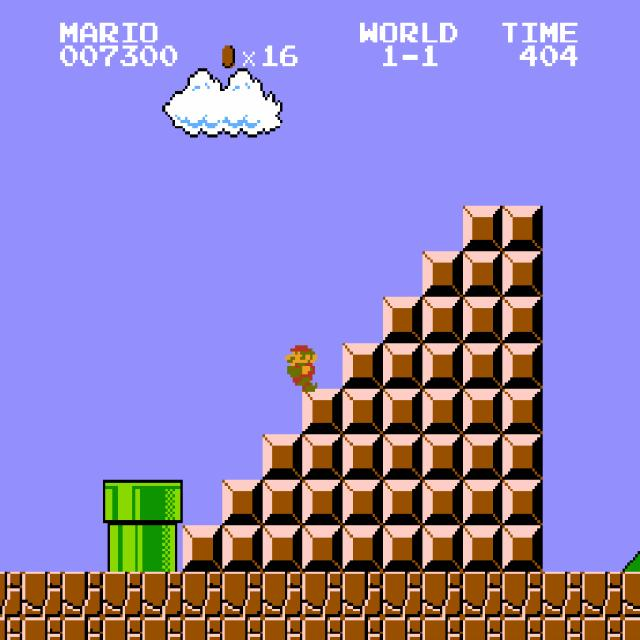hard_block: (222, 480, 263, 526), (262, 434, 303, 480), (262, 480, 303, 526), (302, 434, 343, 480), (302, 480, 343, 526), (342, 434, 383, 480), (342, 480, 383, 526), (382, 297, 423, 343), (382, 434, 423, 480), (382, 480, 423, 526), (422, 297, 463, 343), (422, 434, 463, 480), (422, 480, 463, 526), (462, 297, 503, 343), (462, 434, 503, 480), (462, 480, 503, 526), (502, 297, 543, 343), (502, 434, 543, 480), (502, 480, 543, 526), (182, 526, 223, 571), (222, 526, 263, 571), (262, 526, 303, 571), (302, 389, 343, 434), (302, 526, 343, 571), (342, 343, 383, 388), (342, 389, 383, 434), (342, 526, 383, 571), (382, 343, 423, 388), (382, 389, 423, 434), (382, 526, 423, 571), (422, 252, 463, 297), (422, 343, 463, 388), (422, 389, 463, 434), (422, 526, 463, 571), (462, 206, 503, 251), (462, 252, 503, 297), (462, 343, 503, 388), (462, 389, 503, 434), (462, 526, 503, 571), (502, 206, 543, 251), (502, 252, 543, 297), (502, 343, 543, 388), (502, 389, 543, 434), (502, 526, 543, 571)
little_mario: (277, 343, 320, 391)
pipe: (102, 526, 143, 571), (142, 526, 183, 571)
pipe_head: (102, 480, 143, 526), (142, 480, 183, 526)
undestructible_block: (22, 572, 63, 617), (62, 572, 103, 617), (102, 572, 143, 617), (142, 572, 183, 617), (182, 572, 223, 617), (222, 572, 263, 617), (262, 572, 303, 617), (302, 572, 343, 617), (342, 572, 383, 617), (382, 572, 423, 617), (422, 572, 463, 617), (462, 572, 503, 617), (502, 572, 543, 617), (542, 572, 583, 617), (582, 572, 623, 617), (0, 572, 22, 617), (22, 617, 63, 640), (62, 617, 103, 640), (102, 617, 143, 640), (142, 617, 183, 640), (182, 617, 223, 640), (222, 617, 263, 640), (262, 617, 303, 640), (302, 617, 343, 640), (342, 617, 383, 640), (382, 617, 423, 640), (422, 617, 463, 640), (462, 617, 503, 640), (502, 617, 543, 640), (542, 617, 583, 640), (582, 617, 623, 640), (622, 571, 640, 617), (0, 617, 22, 640), (622, 617, 640, 639)
